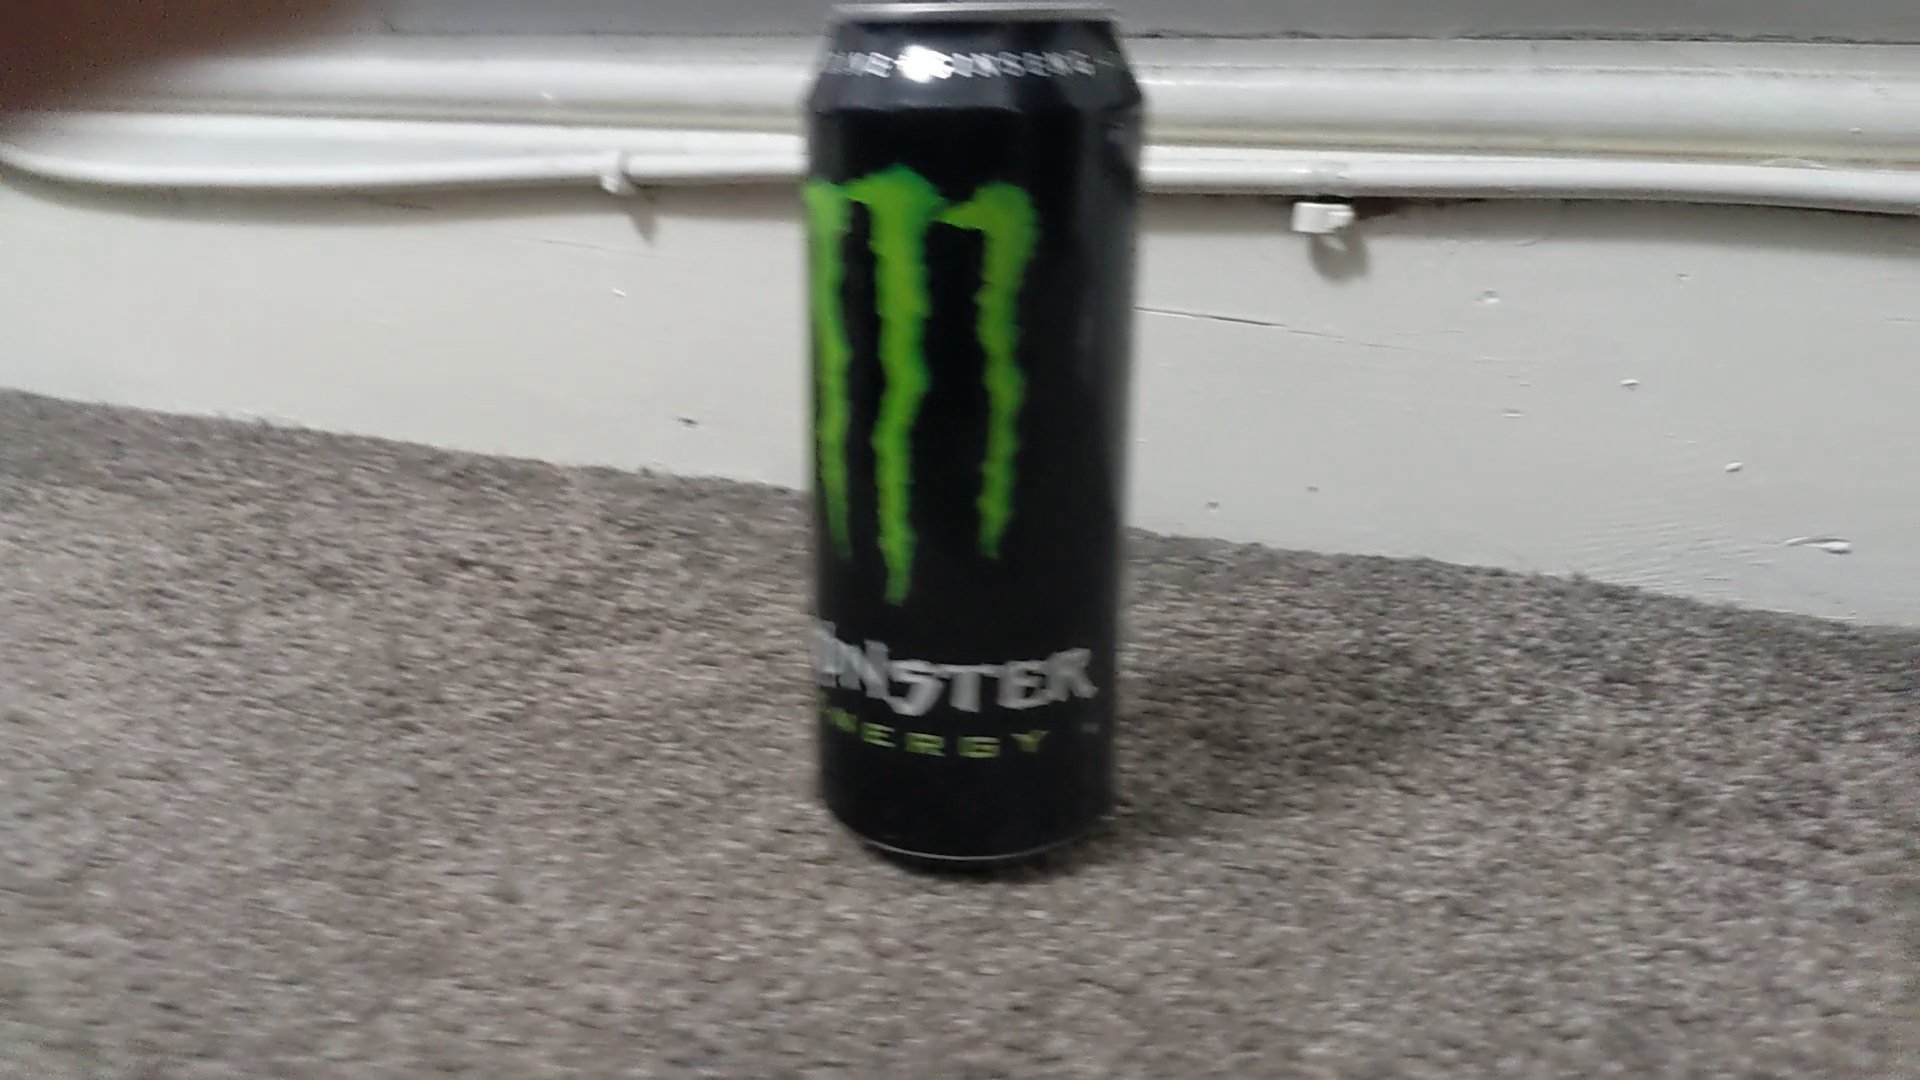monster-original: (798, 1, 1145, 866)
